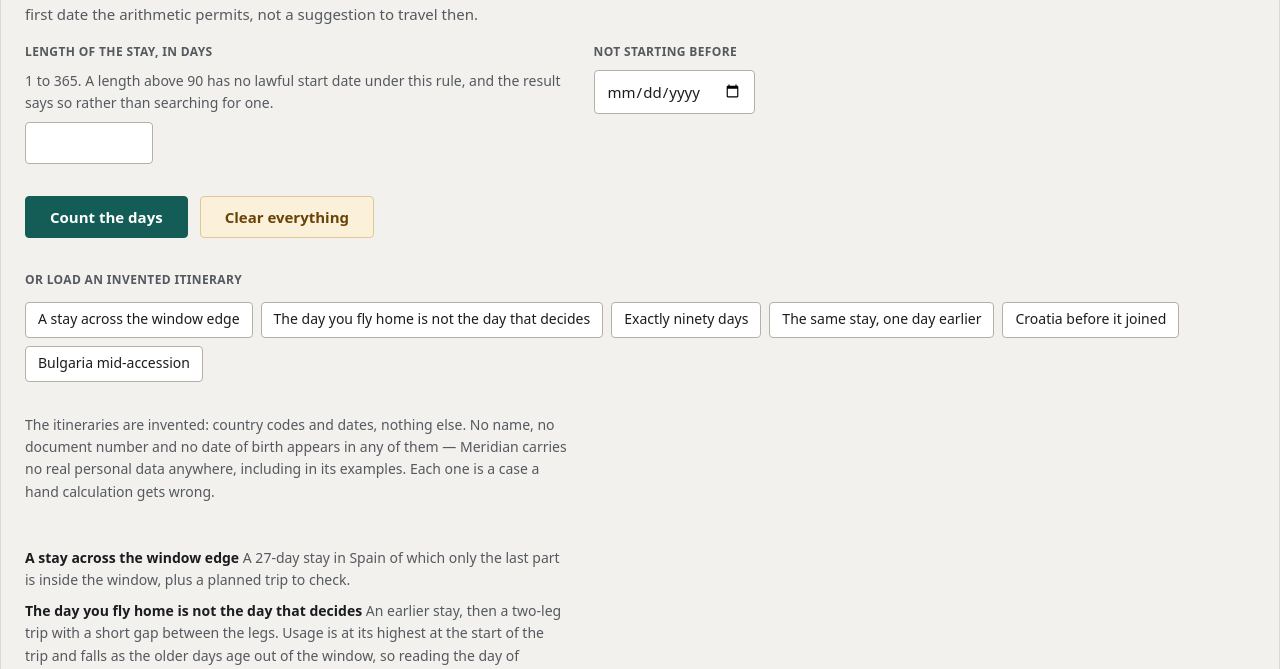
Test: the count against the 90 days › shows the window it measured and the terms that produced the total
The width and height of the screenshot is (1280, 669).
(page scrolled)
Click the button "Exactly ninety days" at (686, 320), box 611,302 -> 761,338
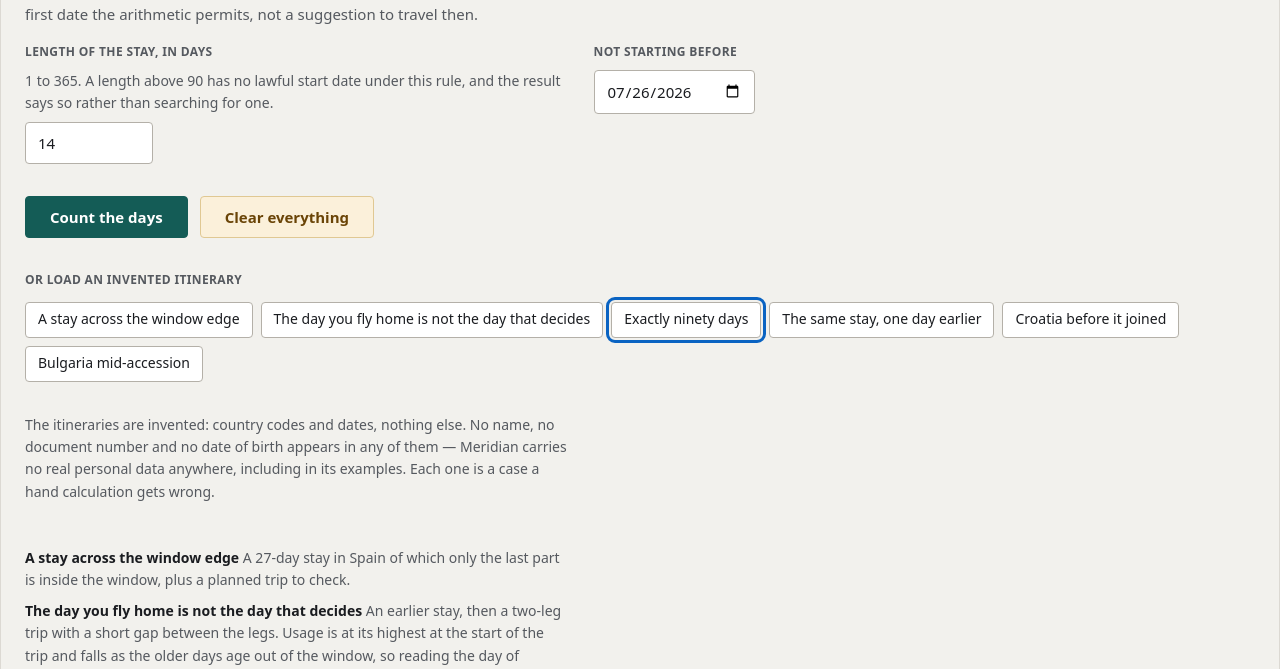
Click the button "Count the days" at (106, 217), box 25,196 -> 188,238
(page scrolled)
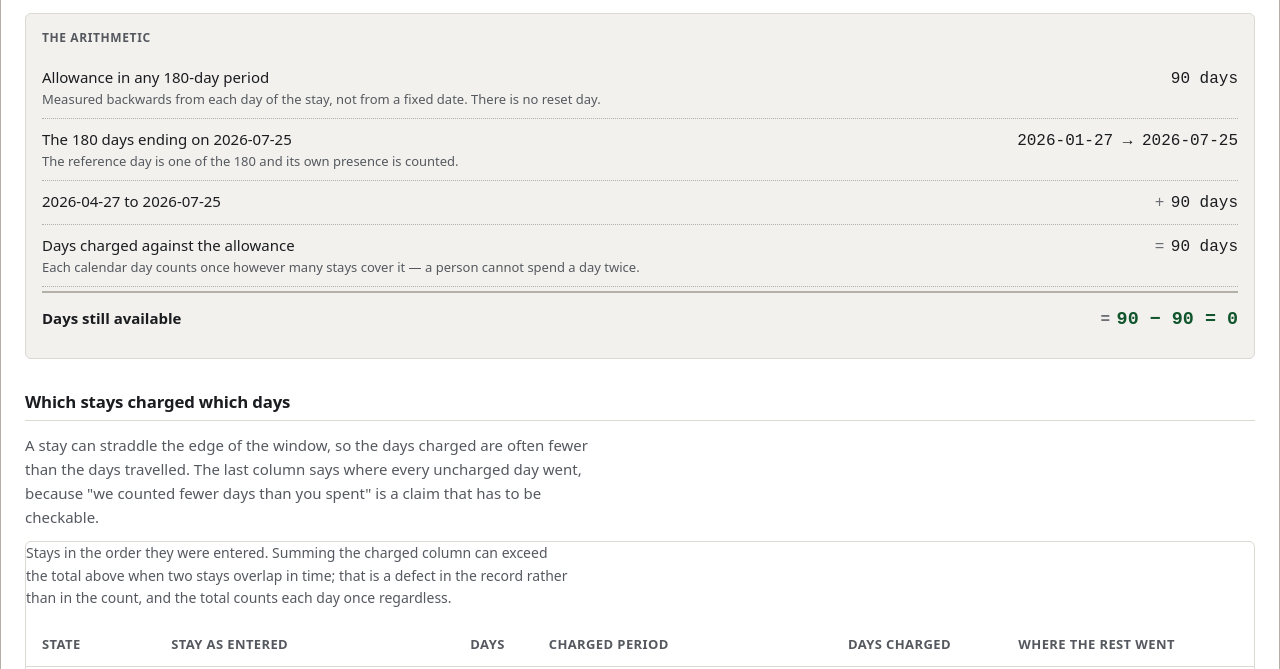
Expected: the text "The 180 days ending on 2026-07-25" is shown, 42,129 -> 292,149
Expected: the text "90 − 90 = 0" is shown, 1117,305 -> 1238,334
